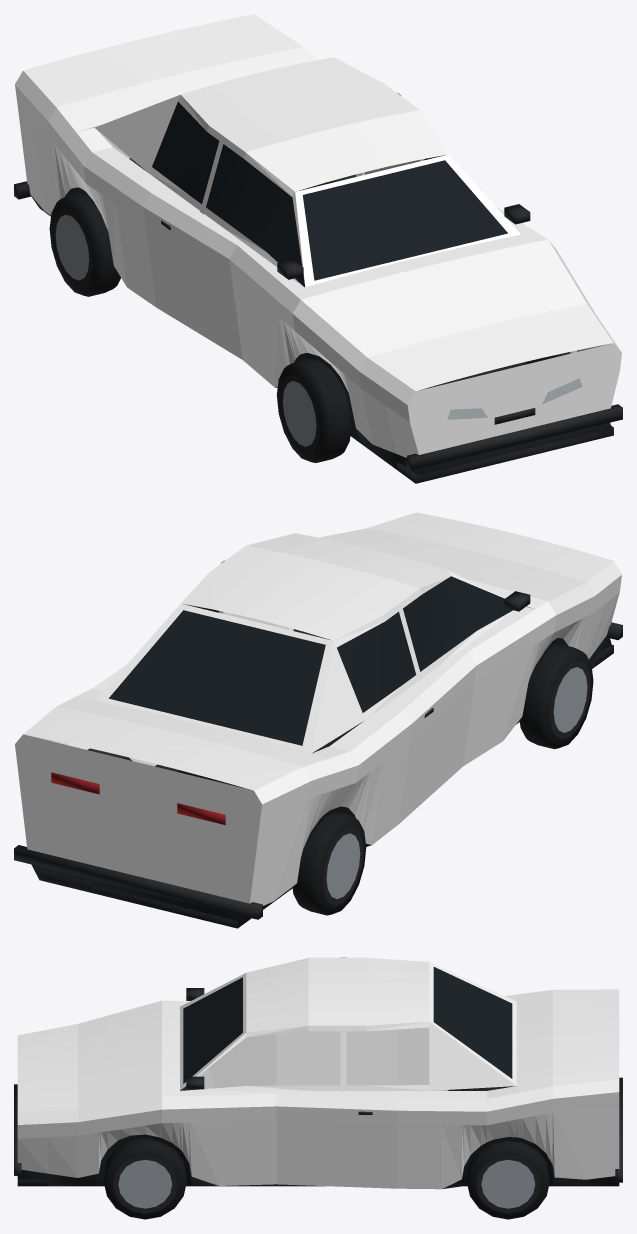
File: garrison_facao.glb
3 views of the same model, one above another, from view 1: azimuth 30°, elevation 25°; view 2: azimuth 150°, elevation 25°; view 3: azimuth 270°, elevation 25° (orthographic). The views are drawn at different scales.
Parts seen in each view (by area): view 1: Body_Paint, Body_Details, Mount_FrontLeft_Wheel_Details, Mount_RearLeft_Wheel_Details; view 2: Body_Paint, Body_Details, Mount_FrontLeft_Wheel_Details, Mount_RearLeft_Wheel_Details; view 3: Body_Paint, Body_Details, Mount_FrontRight_Wheel_Details, Mount_RearRight_Wheel_Details.
Part boxes in pixels (left/top/right/bottom): Body_Paint: left=15, top=14, right=621, bottom=457; Body_Details: left=14, top=101, right=622, bottom=483; Mount_FrontLeft_Wheel_Details: left=276, top=358, right=351, bottom=462; Mount_RearLeft_Wheel_Details: left=49, top=192, right=120, bottom=296; Body_Paint: left=15, top=512, right=621, bottom=905; Body_Details: left=14, top=576, right=622, bottom=928; Mount_FrontLeft_Wheel_Details: left=519, top=643, right=593, bottom=749; Mount_RearLeft_Wheel_Details: left=292, top=812, right=366, bottom=915; Body_Paint: left=17, top=957, right=619, bottom=1189; Body_Details: left=14, top=967, right=622, bottom=1188; Mount_FrontRight_Wheel_Details: left=103, top=1138, right=186, bottom=1219; Mount_RearRight_Wheel_Details: left=466, top=1140, right=549, bottom=1219.
Bounding box in the file's own units: 1.83 × 1.43 × 4.39.
Materials: 2 (1 with a texture image).
